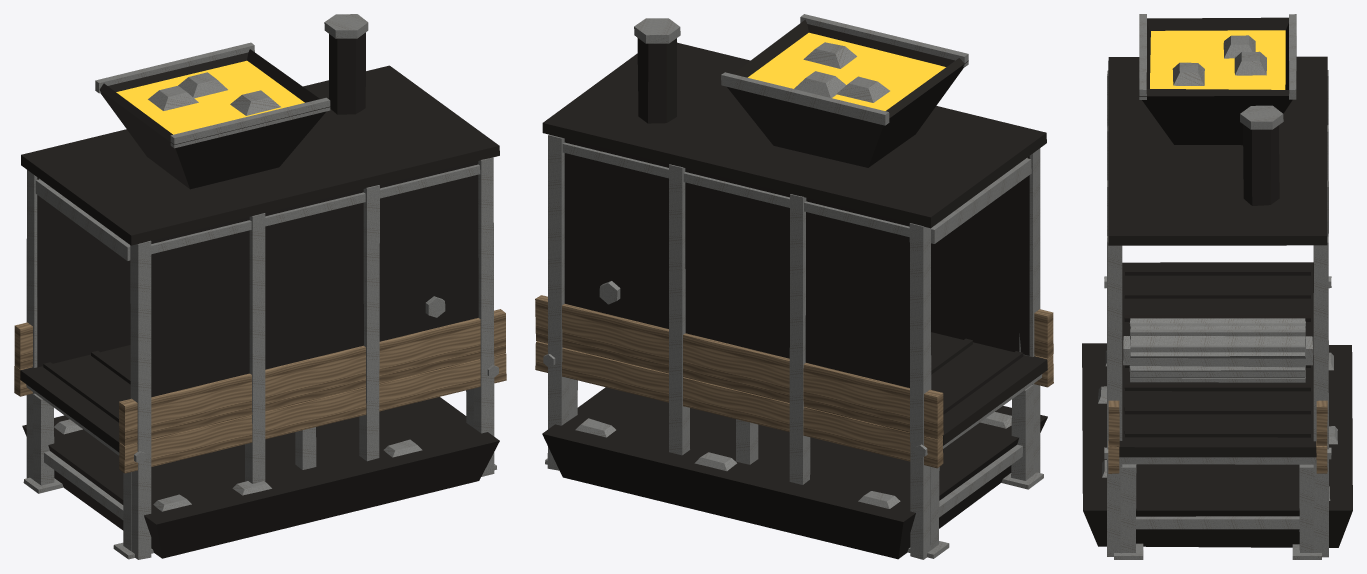
File: ash_sifter.glb
The picture shows the model from 3 angles, left to right: view 1: azimuth 30°, elevation 25°; view 2: azimuth 150°, elevation 25°; view 3: azimuth 270°, elevation 25°; orthographic projection. The views are drawn at different scales.
Visible parts, largest first — view 1: AshSifter, Belt, Shaker; view 2: AshSifter, Belt, Shaker; view 3: AshSifter, Belt, Drum, Roller2.
Boxes of the visible parts, box(x1,y1,x2,y2) form: AshSifter: box(14, 14, 506, 559); Belt: box(20, 345, 130, 452); Shaker: box(35, 178, 130, 260); AshSifter: box(535, 14, 1053, 559); Belt: box(931, 332, 1047, 445); Shaker: box(931, 157, 1031, 243); AshSifter: box(1082, 14, 1352, 559); Belt: box(1119, 262, 1316, 457); Drum: box(1123, 318, 1313, 382); Roller2: box(1119, 457, 1316, 464).
Bounding box in the file's own units: 3.36 × 3.47 × 2.08.
Materials: 4 (2 with a texture image).
